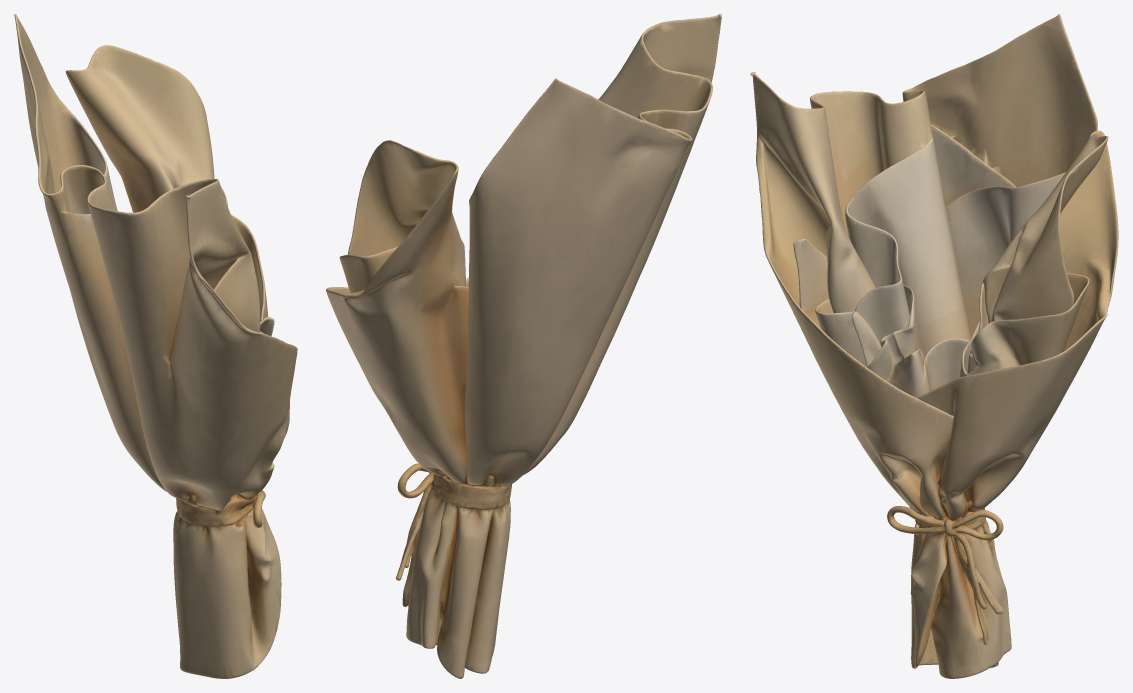
The model's file is paper bouquet 3d model_opt.glb.
3 views of the same model, side by side, from view 1: azimuth 30°, elevation 25°; view 2: azimuth 150°, elevation 25°; view 3: azimuth 270°, elevation 25° (orthographic). The views are drawn at different scales.
Parts seen in each view (by area): view 1: tripo_node_4d9d022a-2101-4eaf-b4e1-ae41aa359669; view 2: tripo_node_4d9d022a-2101-4eaf-b4e1-ae41aa359669; view 3: tripo_node_4d9d022a-2101-4eaf-b4e1-ae41aa359669.
Part boxes in pixels (x1,y1,x2,y2): tripo_node_4d9d022a-2101-4eaf-b4e1-ae41aa359669: [14, 14, 297, 678]; tripo_node_4d9d022a-2101-4eaf-b4e1-ae41aa359669: [326, 14, 721, 678]; tripo_node_4d9d022a-2101-4eaf-b4e1-ae41aa359669: [750, 14, 1118, 678].
Bounding box in the file's own units: 0.4526 × 1 × 0.5601.
1 material, 1 textured.
